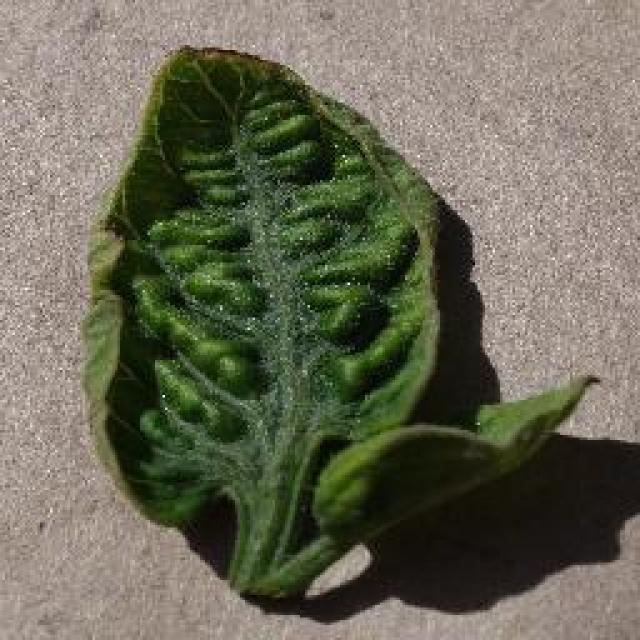Tomato yellow virus leaf: (76, 39, 596, 534)
